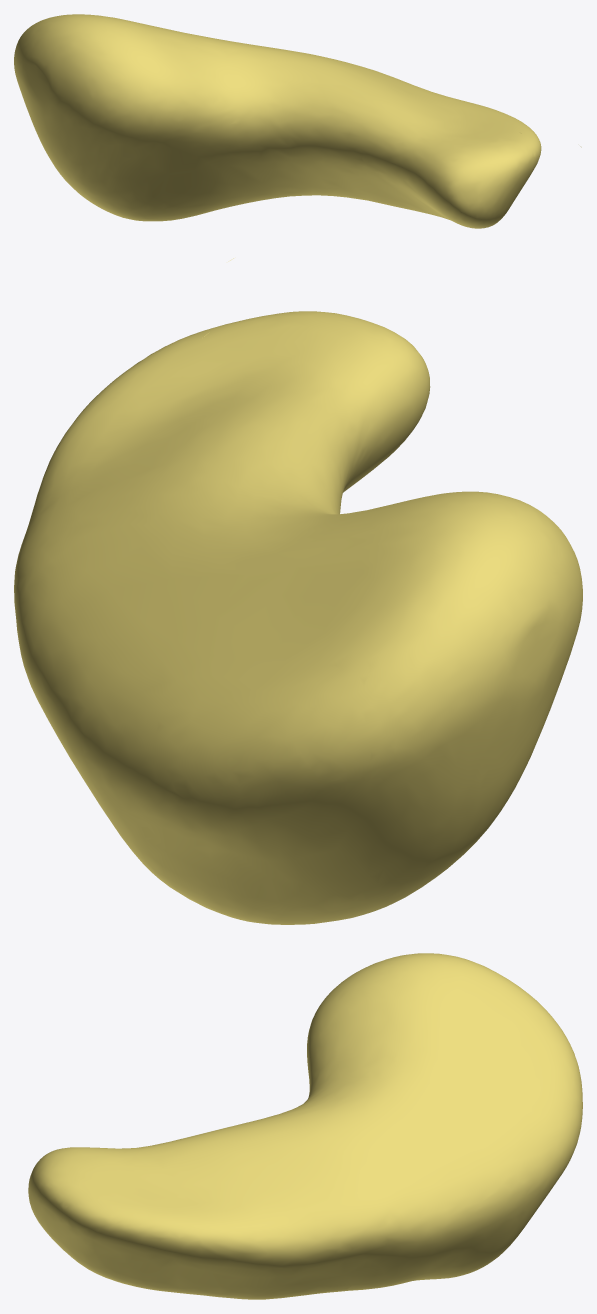
File: inferior-semilunar-lobule-l.glb
3 views of the same model, one above another, from view 1: azimuth 30°, elevation 25°; view 2: azimuth 150°, elevation 25°; view 3: azimuth 270°, elevation 25° (orthographic). The views are drawn at different scales.
Visible parts, largest first — view 1: Inferior semilunar lobule.l; view 2: Inferior semilunar lobule.l; view 3: Inferior semilunar lobule.l.
Boxes of the visible parts, box(x1,y1,x2,y2) form: Inferior semilunar lobule.l: box(14, 14, 581, 228); Inferior semilunar lobule.l: box(14, 258, 582, 924); Inferior semilunar lobule.l: box(28, 953, 582, 1299).
Bounding box in the file's own units: 0.0475 × 0.0285 × 0.0582.
